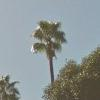Palm tree: (30, 10, 67, 87)
